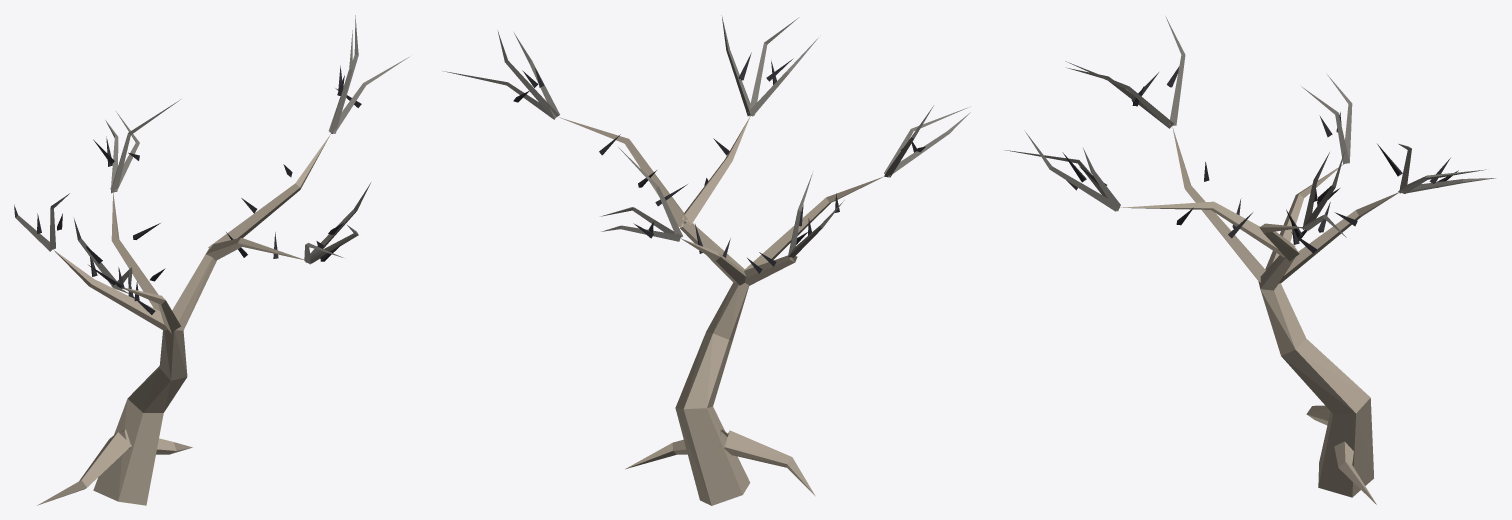
Rendered from Circle7Piece_Tree5.obj.
3 renders of one model, left to right at view 1: azimuth 30°, elevation 25°; view 2: azimuth 150°, elevation 25°; view 3: azimuth 270°, elevation 25°, orthographic. The views are drawn at different scales.
Visible parts, largest first — view 1: Circle7Piece_Tree5; view 2: Circle7Piece_Tree5; view 3: Circle7Piece_Tree5.
Part boxes in pixels (bbox=[...]): Circle7Piece_Tree5: bbox=[14, 15, 408, 505]; Circle7Piece_Tree5: bbox=[443, 15, 970, 505]; Circle7Piece_Tree5: bbox=[1005, 16, 1495, 504].
Bounding box in the file's own units: 5.74 × 5.59 × 5.5.
Materials: 1 (1 with a texture image).
